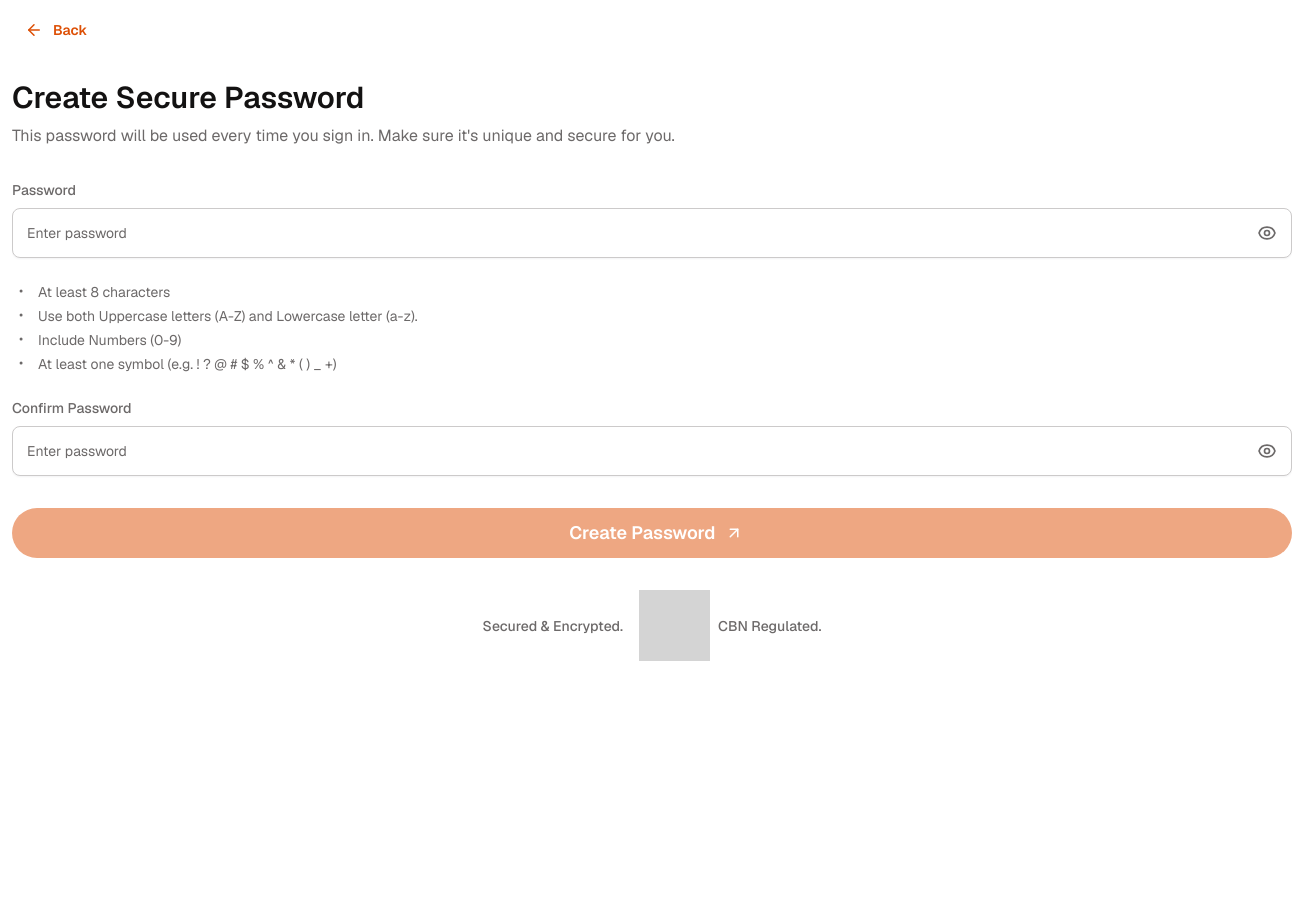
Scenario: Create Password Page - Onboarding › enables create password button when password meets all requirements
Type "Test123!@" into the 1st password field with placeholder "Enter password" at (652, 233), box [12, 208, 1292, 258]
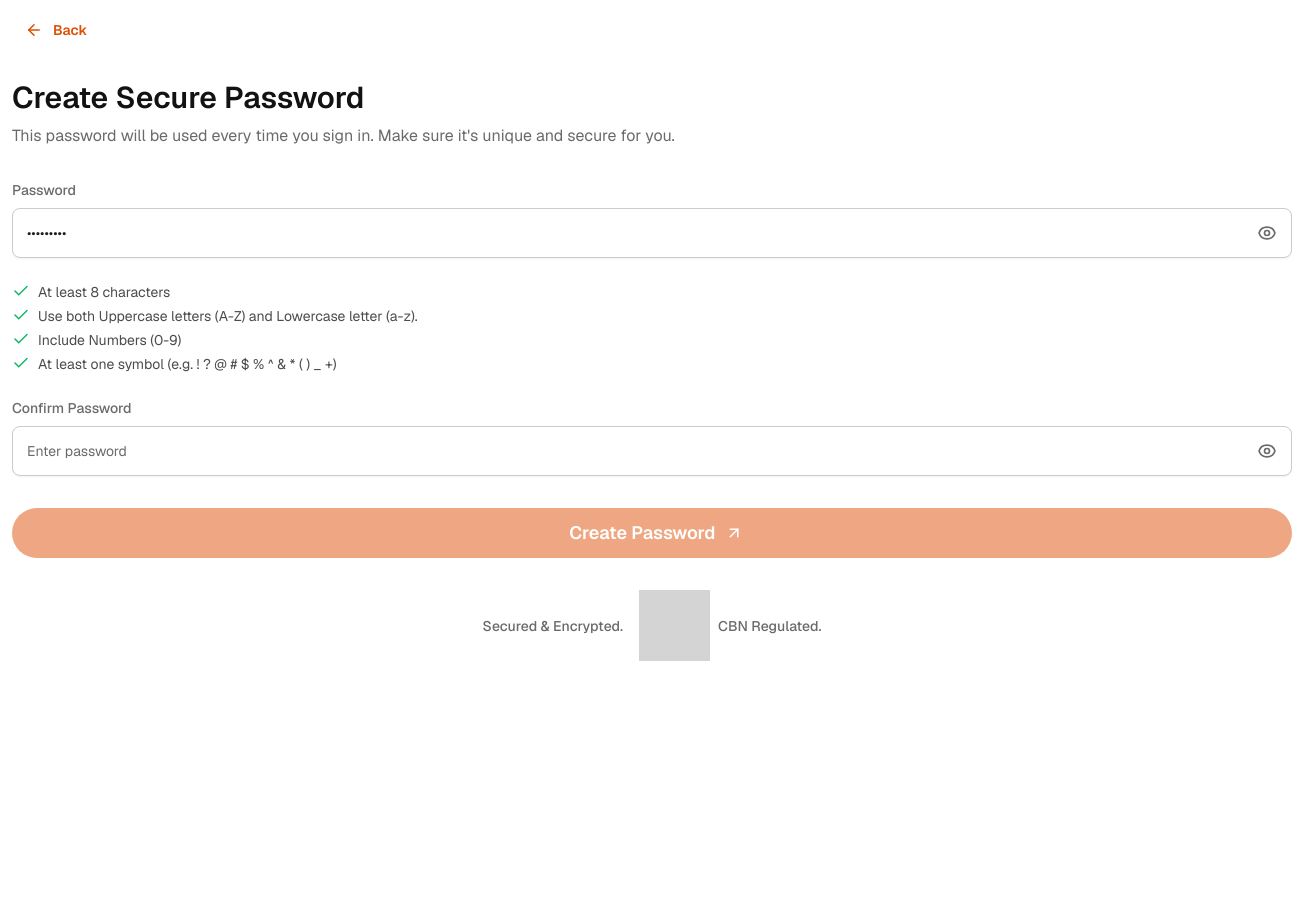
Type "Test123!@" into the password field with placeholder "Enter password" at (652, 451), box [12, 426, 1292, 476]
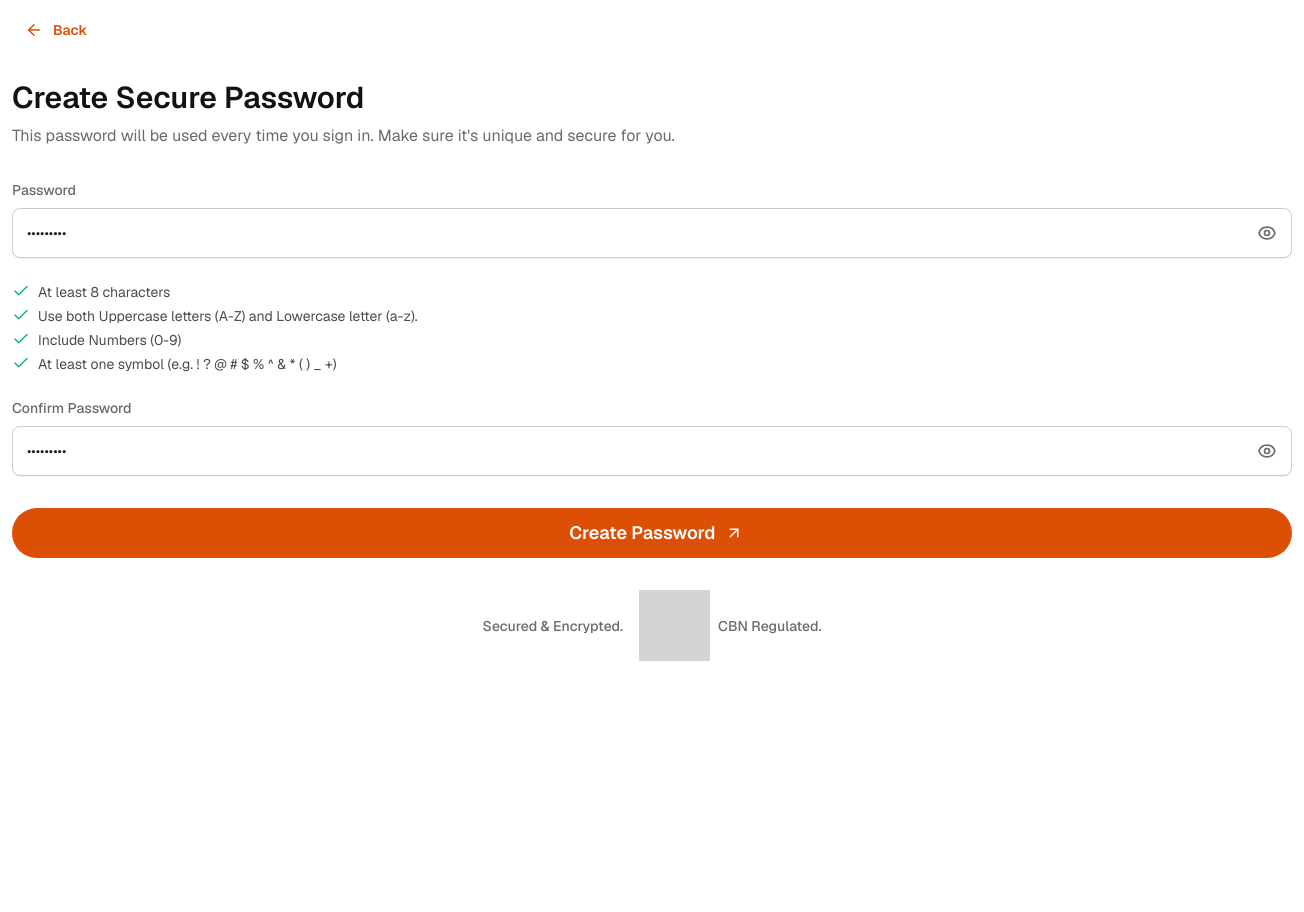
expect the button "Create Password" is enabled: met, box [12, 508, 1292, 558]
